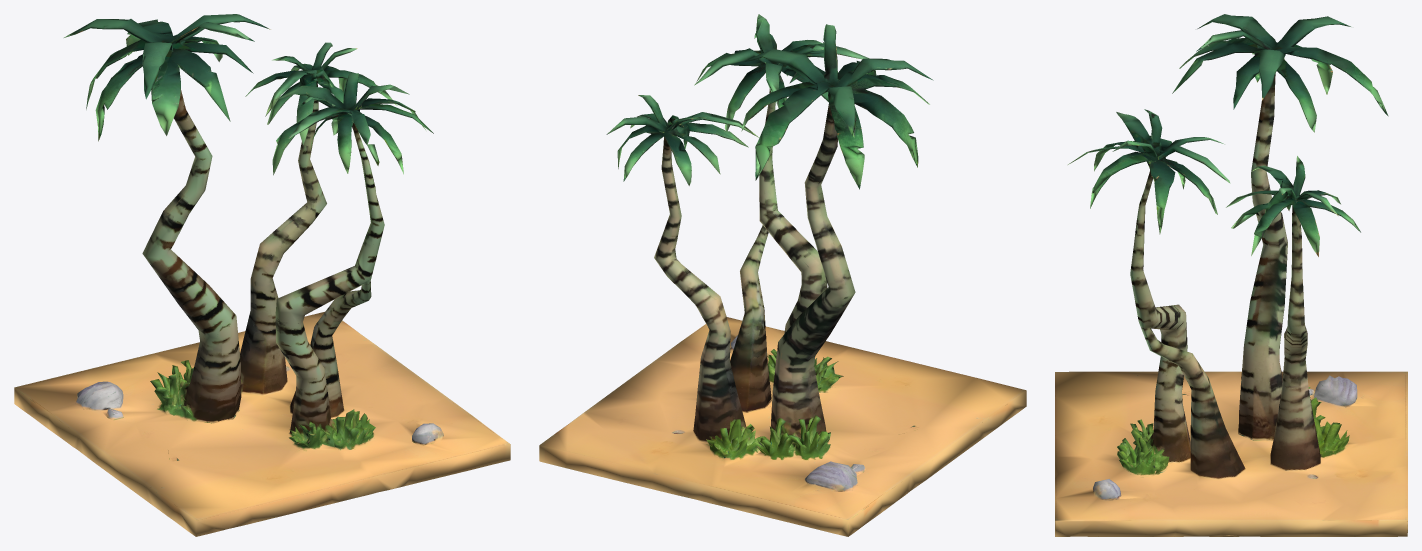
Rendered from palm2.glb.
The picture shows the model from 3 angles, left to right: view 1: azimuth 30°, elevation 25°; view 2: azimuth 150°, elevation 25°; view 3: azimuth 270°, elevation 25°; orthographic projection. The views are drawn at different scales.
Visible parts, largest first — view 1: palm2; view 2: palm2; view 3: palm2.
Boxes of the visible parts, x1,y1,x2,y2 form: palm2: (14,14,510,536); palm2: (539,14,1026,536); palm2: (1055,14,1407,536).
Bounding box in the file's own units: 1.5 × 1.91 × 1.5.
1 material, 1 textured.
